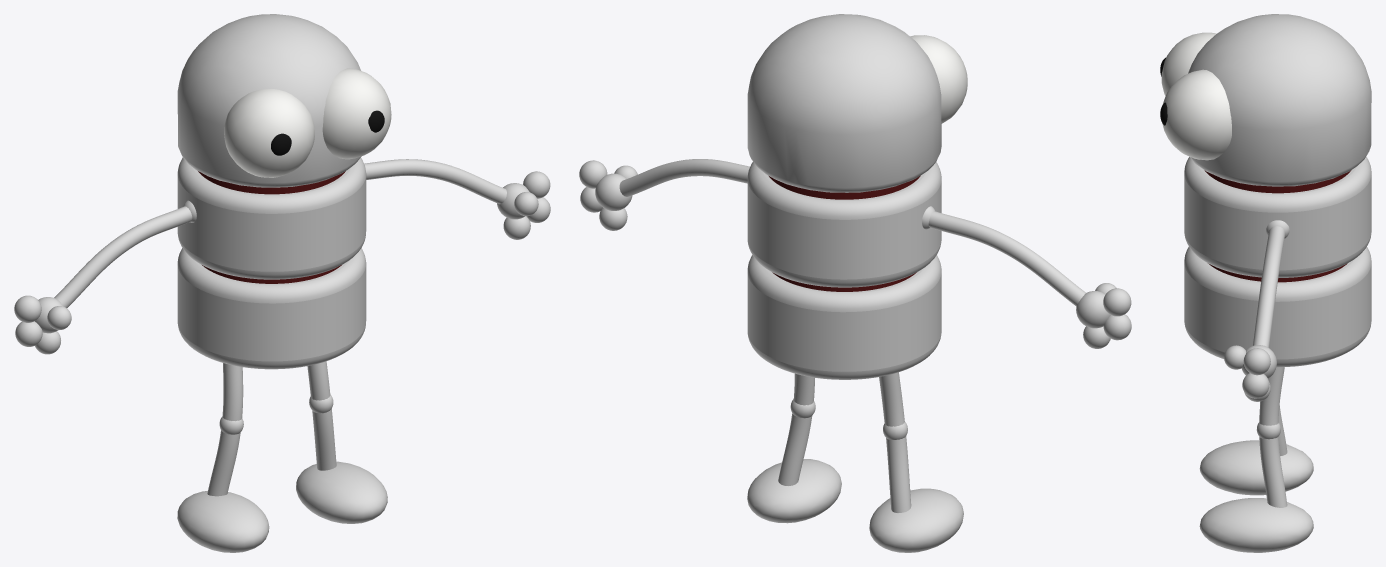
Rendered from redguy.glb.
The picture shows the model from 3 angles, left to right: view 1: azimuth 30°, elevation 25°; view 2: azimuth 150°, elevation 25°; view 3: azimuth 270°, elevation 25°; orthographic projection. The views are drawn at different scales.
Visible parts, largest first — view 1: RG_HeadRig, RG_TorsoRig, RG_ChestRig, RG_LegRig_R, RG_LegRig_L, RG_ArmRig_R, RG_ArmRig_L; view 2: RG_HeadRig, RG_TorsoRig, RG_ChestRig, RG_LegRig_R, RG_LegRig_L, RG_ArmRig_R, RG_ArmRig_L; view 3: RG_HeadRig, RG_TorsoRig, RG_ChestRig, RG_LegRig_L, RG_ArmRig_L, RG_LegRig_R.
Boxes of the visible parts, <box> form: RG_HeadRig: <box>177,14,391,187</box>; RG_TorsoRig: <box>177,171,366,369</box>; RG_ChestRig: <box>177,157,366,279</box>; RG_LegRig_R: <box>177,363,269,552</box>; RG_LegRig_L: <box>296,361,387,523</box>; RG_ArmRig_R: <box>14,200,196,354</box>; RG_ArmRig_L: <box>364,159,550,239</box>; RG_HeadRig: <box>747,14,967,192</box>; RG_TorsoRig: <box>747,176,941,379</box>; RG_ChestRig: <box>747,162,941,287</box>; RG_LegRig_R: <box>869,372,963,552</box>; RG_LegRig_L: <box>747,373,841,523</box>; RG_ArmRig_R: <box>922,206,1131,348</box>; RG_ArmRig_L: <box>579,159,749,230</box>; RG_HeadRig: <box>1160,14,1371,186</box>; RG_TorsoRig: <box>1184,170,1371,367</box>; RG_ChestRig: <box>1184,156,1371,277</box>; RG_LegRig_L: <box>1199,367,1313,552</box>; RG_ArmRig_L: <box>1224,220,1289,401</box>; RG_LegRig_R: <box>1199,402,1313,495</box>.
Bounding box in the file's own units: 4.04 × 3.6 × 1.4.
